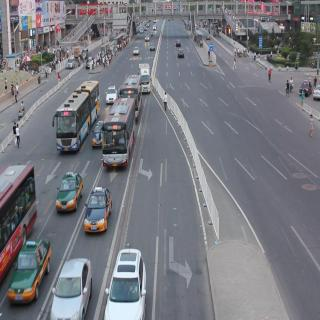BigCar: (42, 77, 100, 157), (100, 95, 135, 170), (132, 59, 155, 97)
Car: (102, 244, 151, 320), (10, 232, 49, 312), (50, 254, 97, 320), (81, 182, 115, 239), (52, 162, 83, 216), (104, 84, 120, 107)
